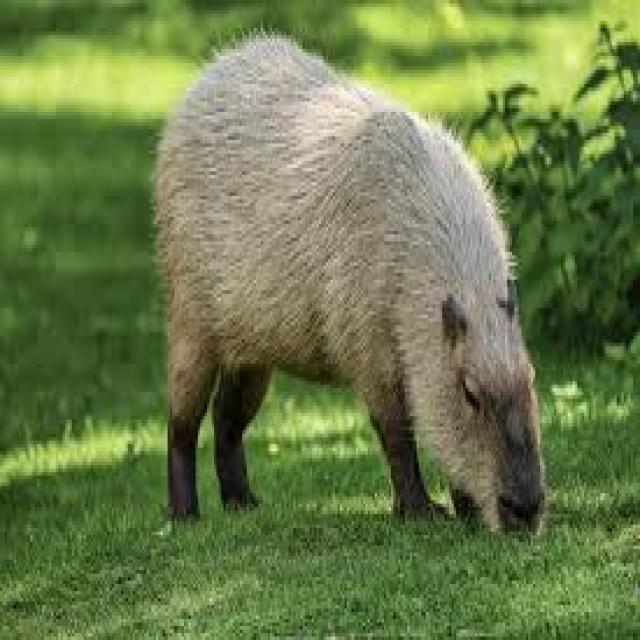capy: (148, 30, 547, 540)
